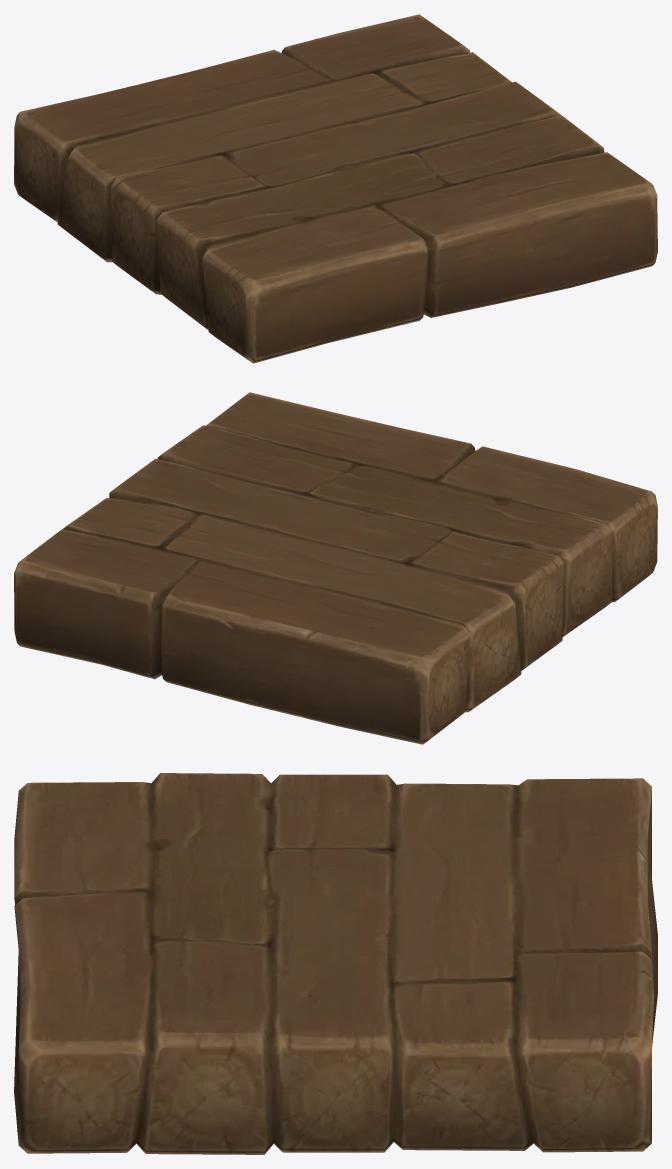
The picture shows the model from 3 angles, top to bottom: view 1: azimuth 30°, elevation 25°; view 2: azimuth 150°, elevation 25°; view 3: azimuth 270°, elevation 25°; orthographic projection. The views are drawn at different scales.
Size of the model in its own units: 4.08 by 0.8166 by 4.06.
1 material, 1 textured.
